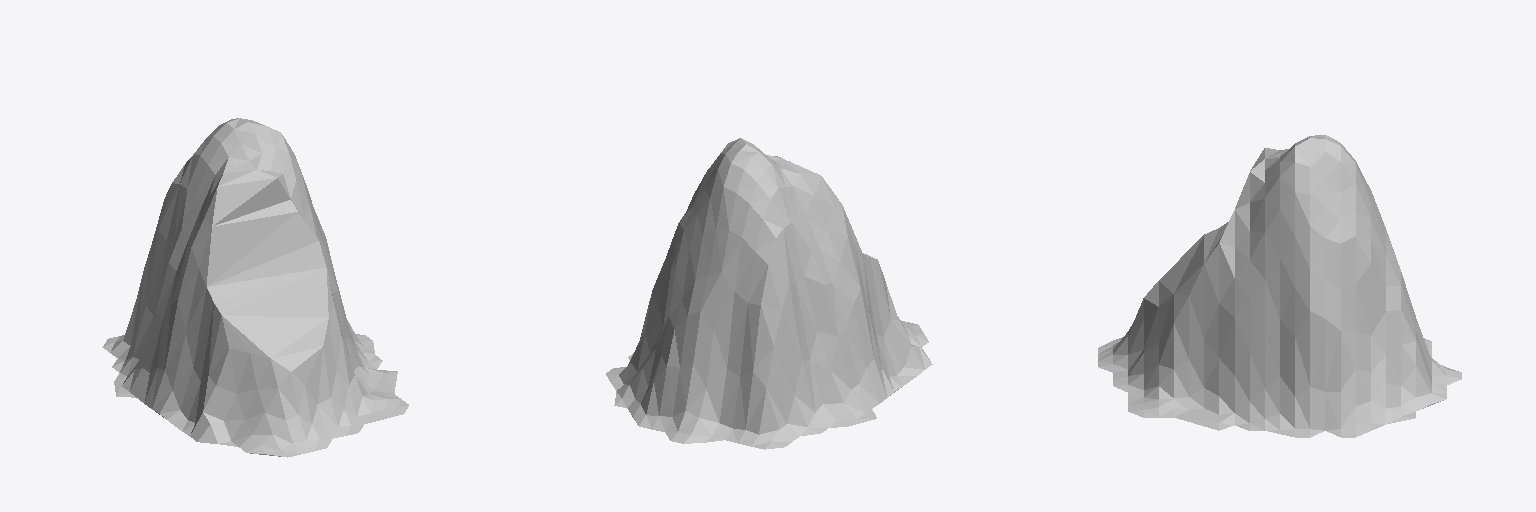
The model's file is tree_27.obj.
3 views of the same model, side by side, from view 1: azimuth 30°, elevation 25°; view 2: azimuth 150°, elevation 25°; view 3: azimuth 270°, elevation 25° (orthographic).
Visible parts, largest first — view 1: tree_27_minus_dtm; view 2: tree_27_minus_dtm; view 3: tree_27_minus_dtm.
Part boxes in pixels (x1,y1,x2,y2): tree_27_minus_dtm: (102,118,408,457); tree_27_minus_dtm: (606,138,932,449); tree_27_minus_dtm: (1098,135,1461,437).
Bounding box in the file's own units: 19 × 17.64 × 24.